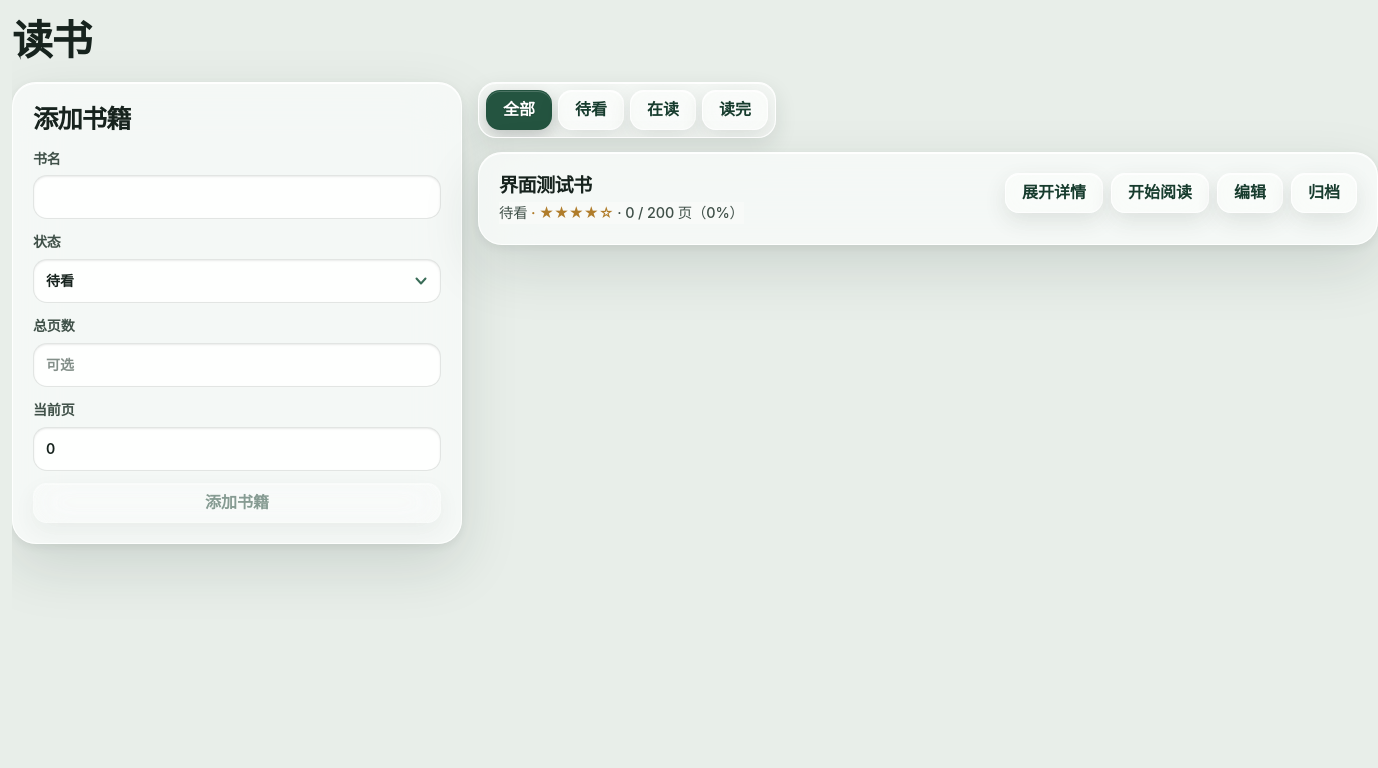
Test: ReadingWorkspace › keeps every book compact until its details are expanded
Expected: the heading "界面测试书" is shown, [499,173,592,197]
Expected: the text "待看" is shown, [499,204,528,221]
Click the button with aria-label "展开书籍：界面测试书": (1054, 193) [1005,173,1103,213]
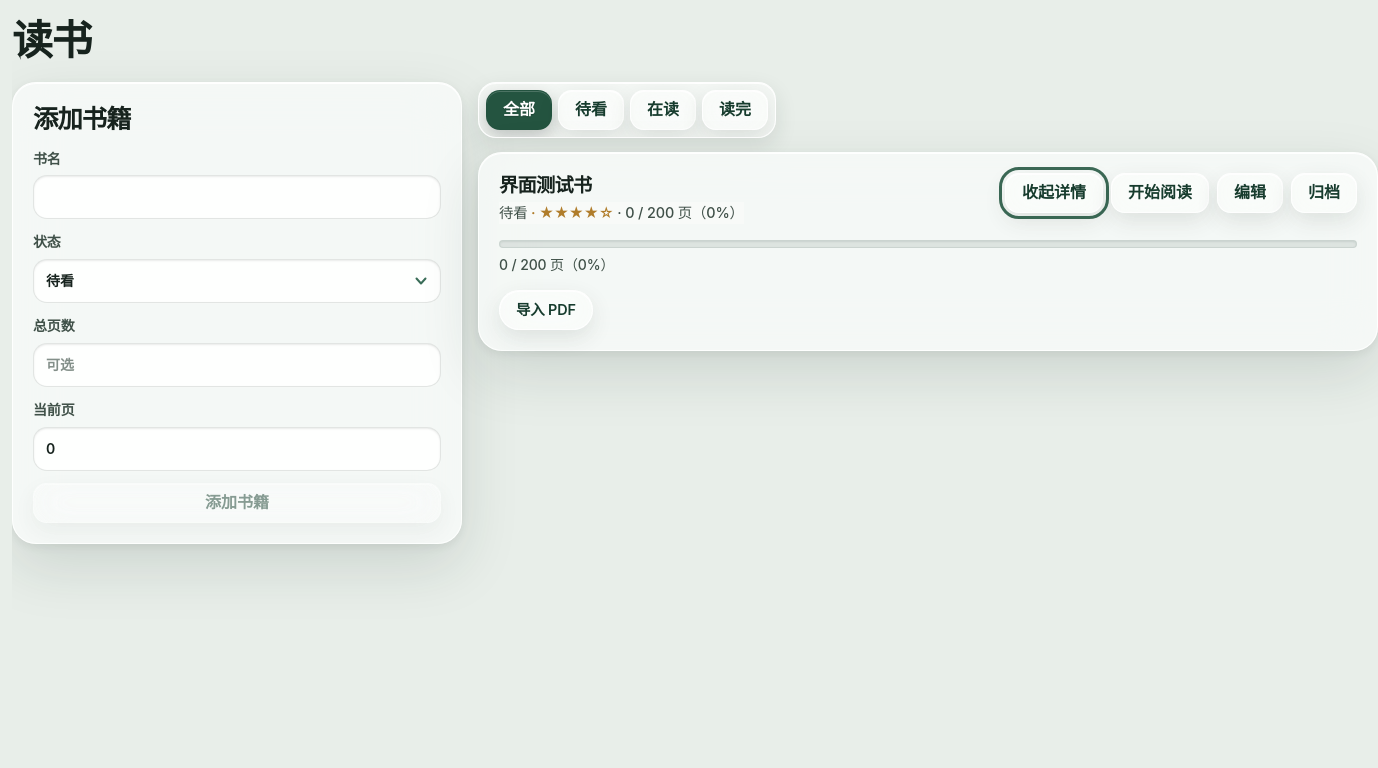
Now the progress indicator is shown, box [499,240,1357,248]
Now the button with aria-label "收起书籍：界面测试书" is expanded, box [1005,173,1103,213]
